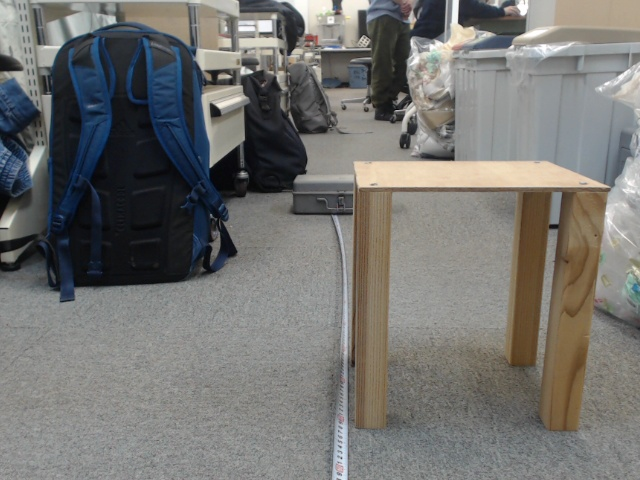desk: (248, 182, 476, 441)
